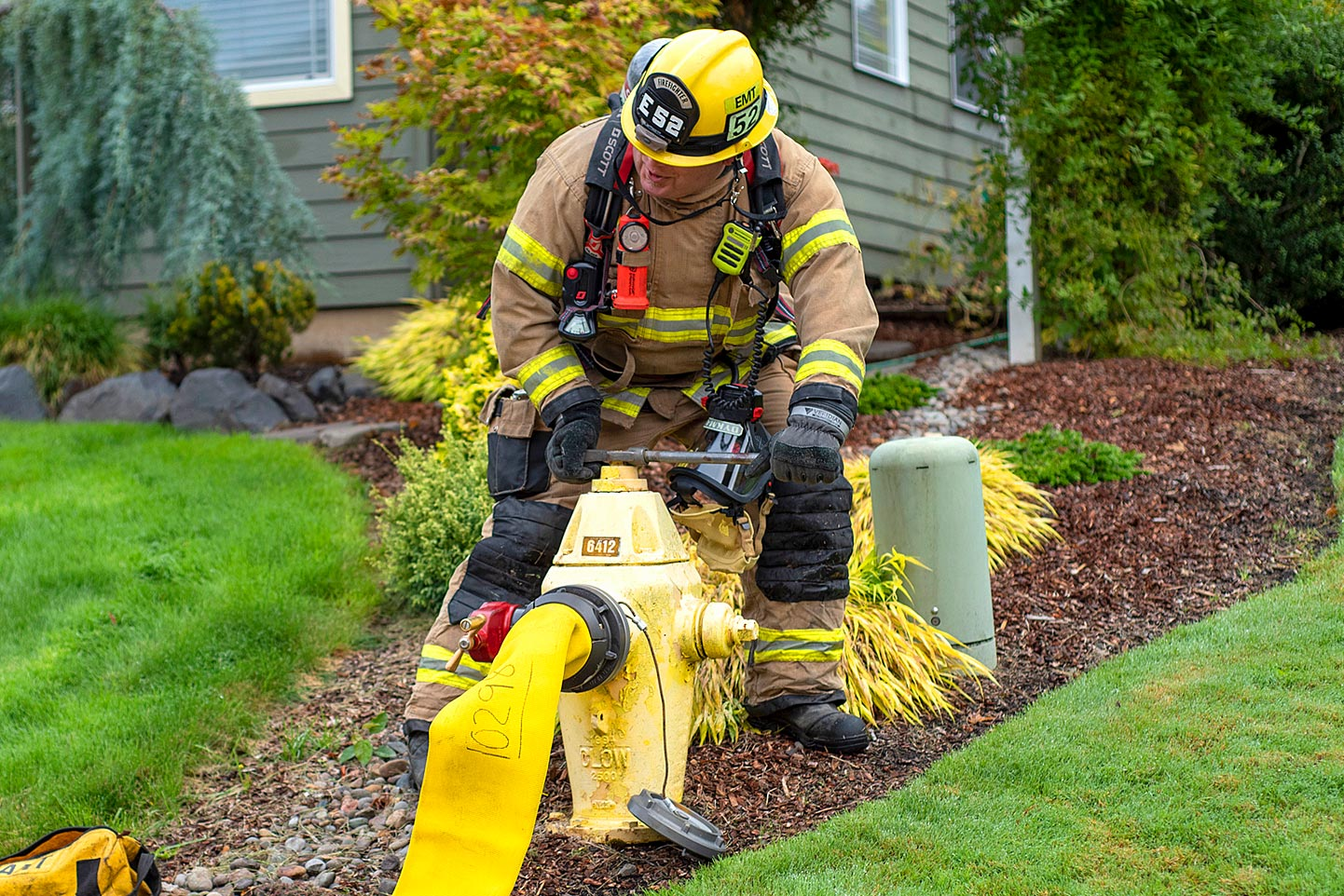FireHydrant: (477, 442, 739, 854)
Person: (407, 29, 903, 767)
